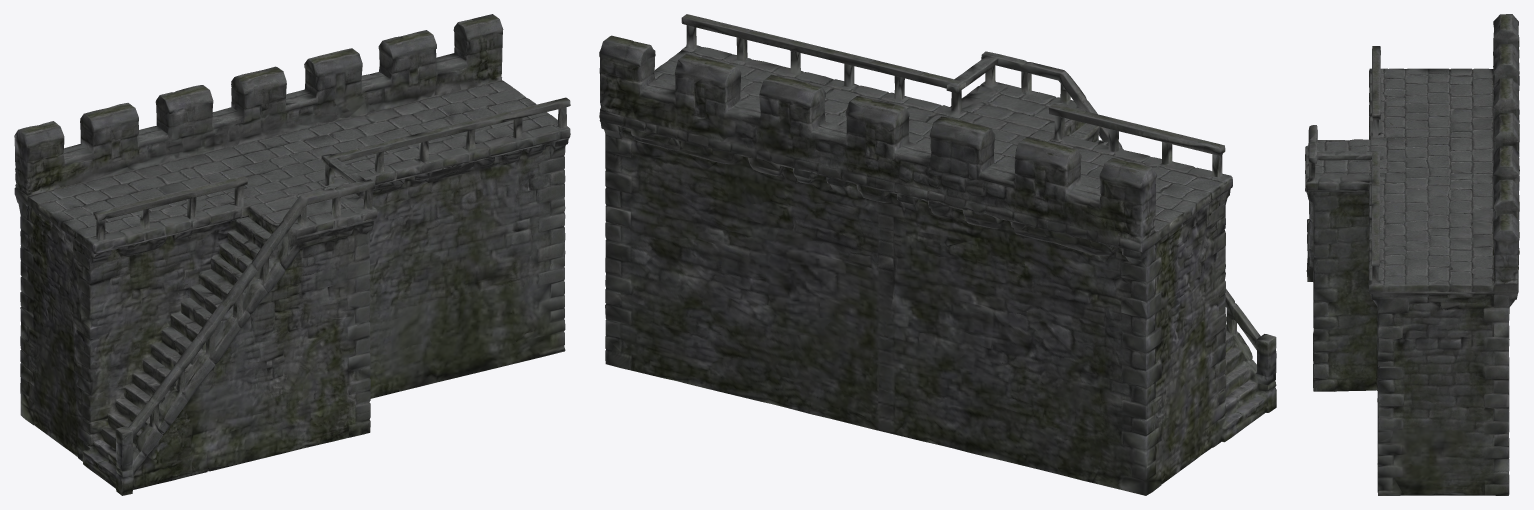
Rendered from fort_m_meadow_wall.glb.
3 views of the same model, side by side, from view 1: azimuth 30°, elevation 25°; view 2: azimuth 150°, elevation 25°; view 3: azimuth 270°, elevation 25° (orthographic). The views are drawn at different scales.
Visible parts, largest first — view 1: fort_m_meadow_wall; view 2: fort_m_meadow_wall; view 3: fort_m_meadow_wall.
Part boxes in pixels (x1,y1,x2,y2): fort_m_meadow_wall: [14, 14, 570, 495]; fort_m_meadow_wall: [599, 14, 1276, 495]; fort_m_meadow_wall: [1305, 14, 1519, 495].
Size of the model in its own units: 1.9 by 1.07 by 0.7841.
1 material, 1 textured.
